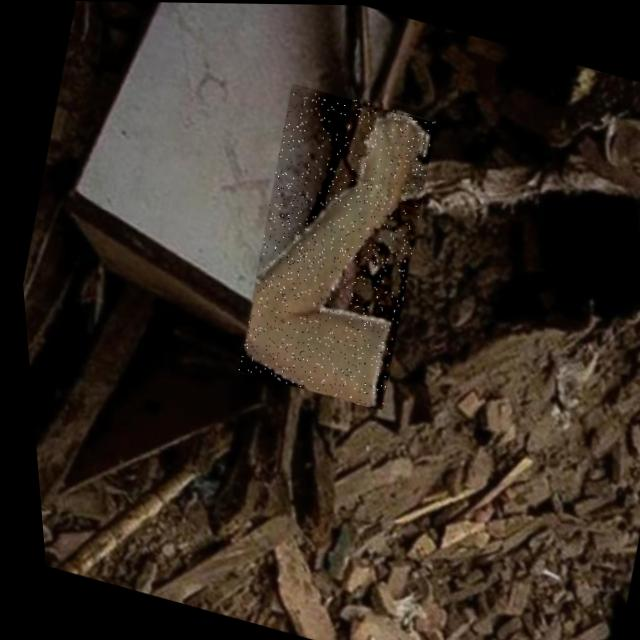Person in Rubble: (212, 79, 452, 410)
